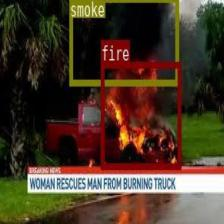fire: (100, 61, 181, 168)
smoke: (68, 0, 178, 85)
